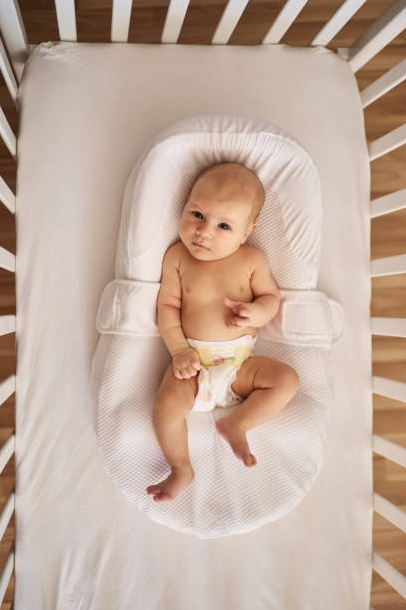baby: (147, 163, 297, 501)
crib: (0, 0, 405, 609)
